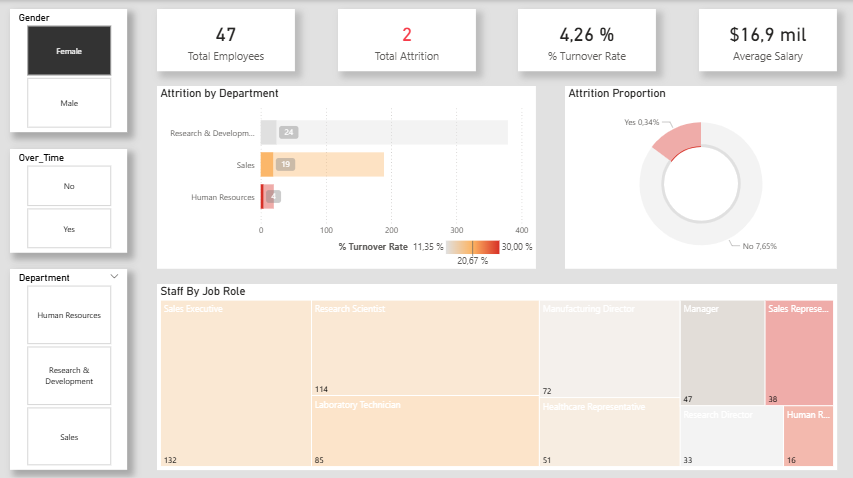

This screenshot's page, from the dashboard's own definition file:
{"tool":"powerbi","page":{"name":"Talent summary","canvas":[1280,720],"ordinal":0},"visuals":[{"type":"slicer","fields":{"Values":["Dim_JobDetails.Department"]},"box":[14.9,401.8,174.8,300.2],"z":0},{"type":"card","title":"Total Empoyees","fields":{"Values":["_Measures.Total Employees"]},"box":[234.5,13.4,205.8,92.6],"z":1000,"group":"g1"},{"type":"clusteredBarChart","title":"Attrition by Department","fields":{"Category":["Dim_JobDetails.Department"],"Y":["_Measures.Total Employees"]},"box":[233.8,128.5,566.1,273.4],"z":1000},{"type":"card","fields":{"Values":["_Measures.Total Attrition"]},"box":[504.5,13.4,205.8,92.6],"z":2000,"group":"g1"},{"type":"treemap","title":"Staff By Job Role","fields":{"Group":["Dim_JobDetails.Job_Role"],"Values":["_Measures.Total Employees"]},"box":[234.5,424.2,1015.8,277.8],"z":2000},{"type":"card","fields":{"Values":["_Measures.% Turnover Rate"]},"box":[774.5,13.4,205.8,92.6],"z":3000,"group":"g1"},{"type":"donutChart","title":"Attrition Proportion","fields":{"Category":["Fact_Attrition.Attrition"],"Y":["_Measures.Total Employees"]},"box":[844,128.5,406.3,273.4],"z":3000},{"type":"slicer","fields":{"Values":["Dim_Employee.Gender"]},"box":[14.9,13.4,174.8,183.7],"z":4000},{"type":"card","fields":{"Values":["_Measures.Average Salary"]},"box":[1044.5,13.4,205.8,92.6],"z":4000,"group":"g1"},{"type":"slicer","fields":{"Values":["Dim_Satisfaction.Over_Time"]},"box":[14.9,221.8,174.8,155.4],"z":5000},{"type":"group","id":"g1","title":"Grupo 1","box":[234.5,13.4,1015.8,92.6],"z":6000}]}

Visuals, with their boxes in screenshot pixels (x1, y1, x2, y2), scaled from the page's 1280x720 canvas onto the 853x478 screenshot:
slicer - Dim_JobDetails.Department: 10/267/126/466
"Total Empoyees" card: 156/9/293/70
"Attrition by Department" clusteredBarChart: 156/85/533/267
card - _Measures.Total Attrition: 336/9/473/70
"Staff By Job Role" treemap: 156/282/833/466
card - _Measures.% Turnover Rate: 516/9/653/70
"Attrition Proportion" donutChart: 562/85/833/267
slicer - Dim_Employee.Gender: 10/9/126/131
card - _Measures.Average Salary: 696/9/833/70
slicer - Dim_Satisfaction.Over_Time: 10/147/126/250
"Grupo 1" group: 156/9/833/70
